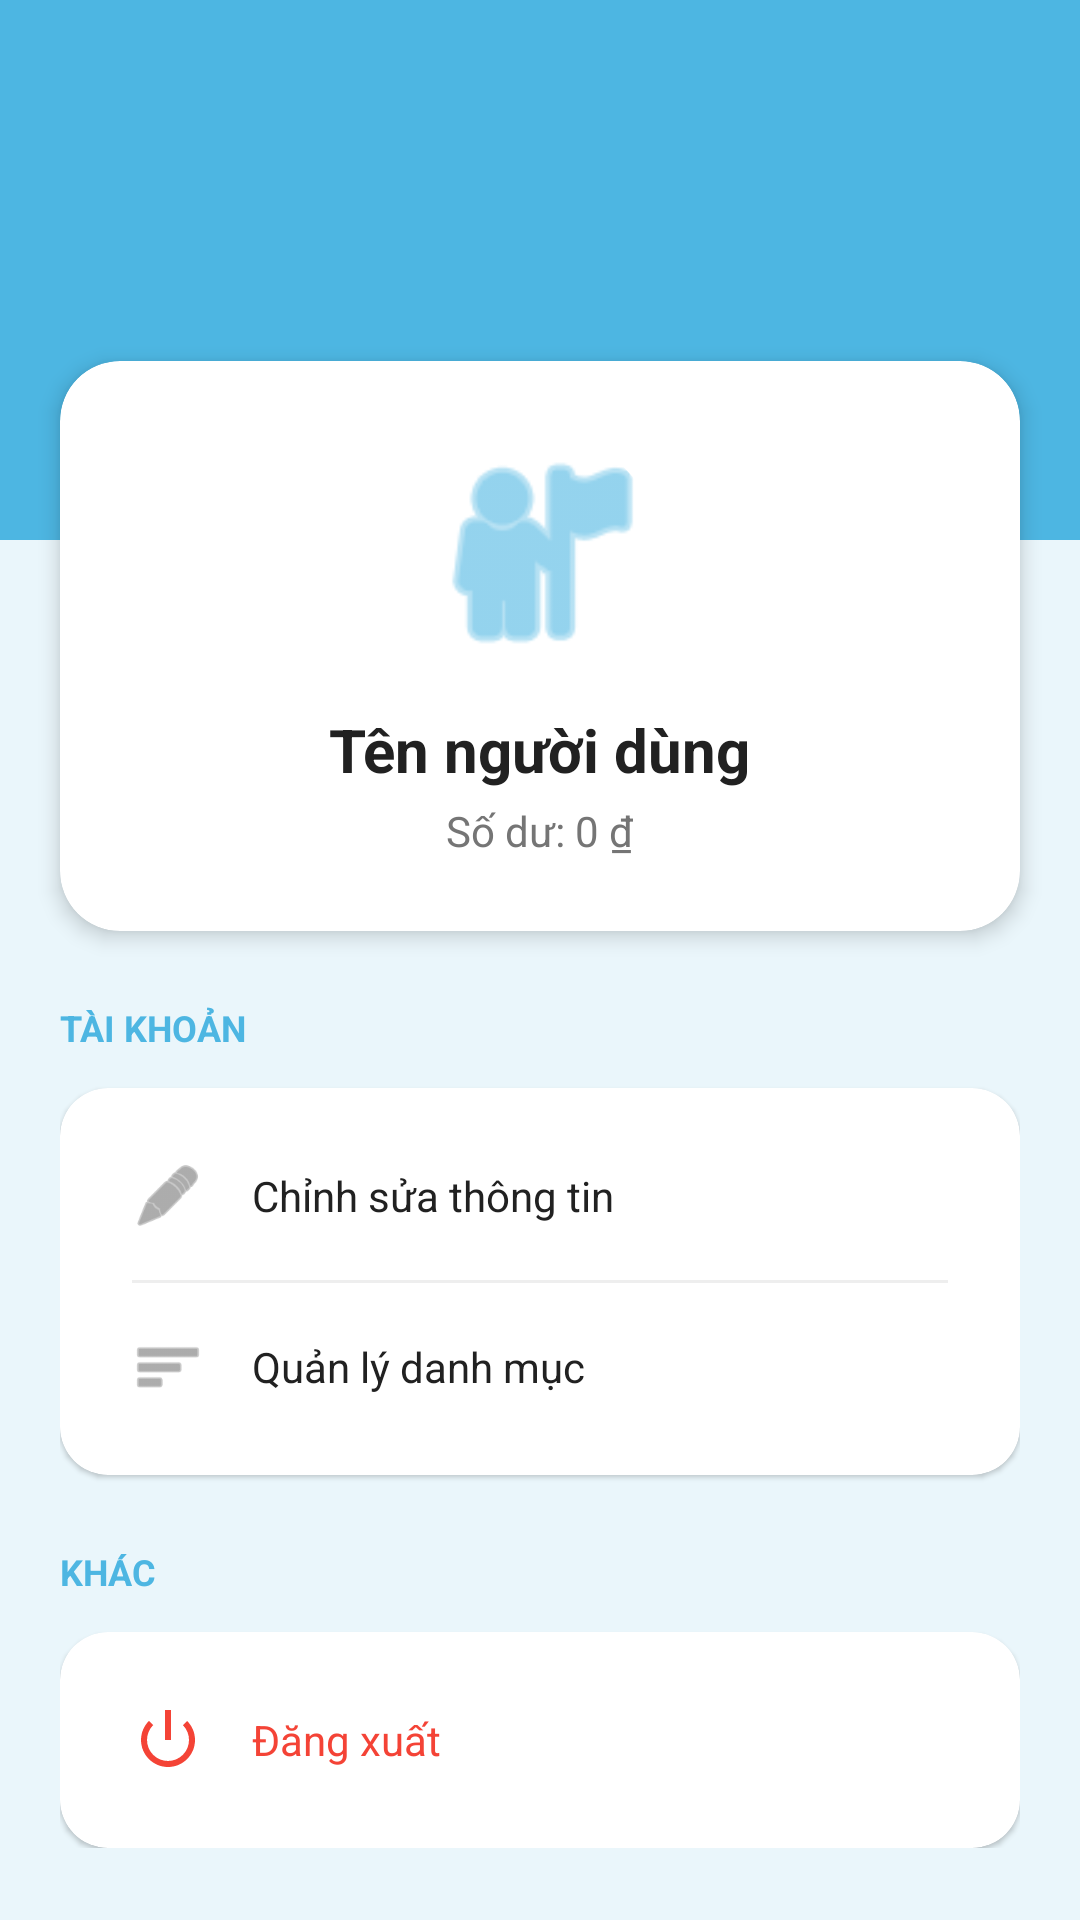

Where icons sit on this 1080x1920 app screen, as (x1, y1, x2, y2):
edit: (137, 1165, 198, 1226)
lock power off: (141, 1710, 195, 1767)
myplaces: (452, 464, 633, 642)
sort by size: (137, 1347, 199, 1387)
